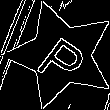P_NE: (30, 24, 92, 86)
